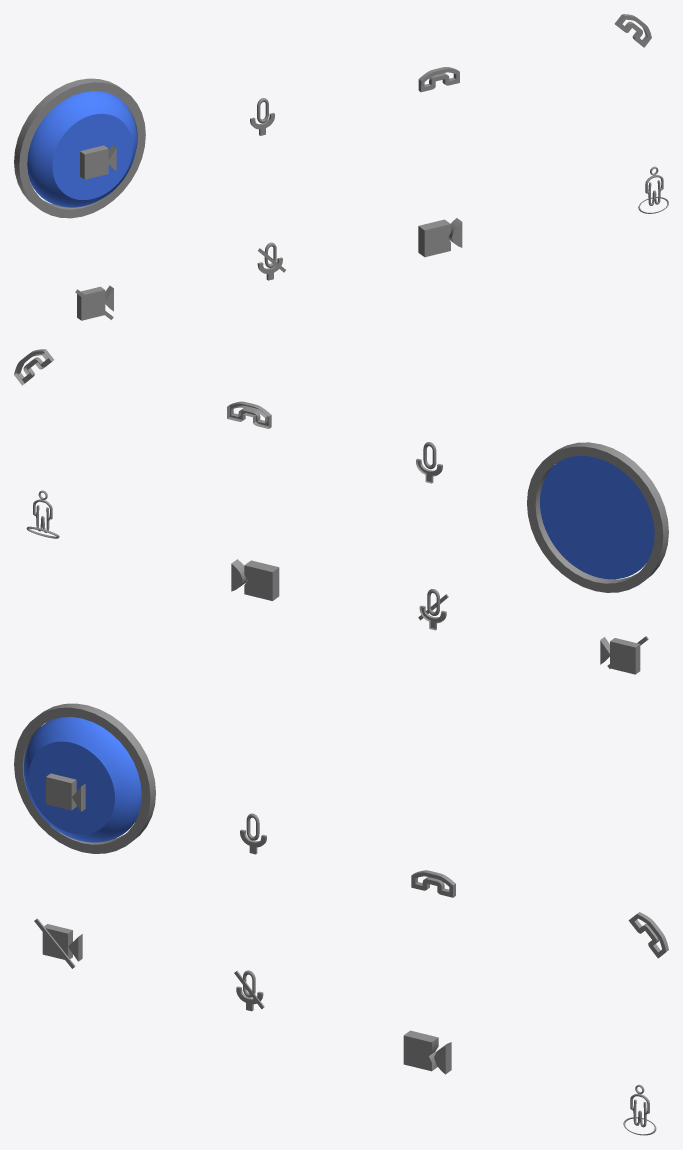
3 views of the same model, one above another, from view 1: azimuth 30°, elevation 25°; view 2: azimuth 150°, elevation 25°; view 3: azimuth 330°, elevation 25° (orthographic). The views are drawn at different scales.
Parts seen in each view (by area): view 1: Cylinder091, Cylinder087, Box051, Box053, Box052, Plane050, Plane048, Plane049, Plane047; view 2: Cylinder091, Cylinder087, Box051, Box053, Plane050, Plane048, Plane049, Plane047, Plane051; view 3: Cylinder091, Cylinder087, Box051, Box053, Box052, Plane048, Plane050, Plane049.
Boxes of the visible parts, left/top/right/bottom form: Cylinder091: left=27, top=91, right=137, bottom=207; Cylinder087: left=14, top=78, right=145, bottom=218; Box051: left=418, top=218, right=462, bottom=257; Box053: left=75, top=285, right=113, bottom=320; Box052: left=80, top=145, right=116, bottom=179; Plane050: left=418, top=67, right=459, bottom=92; Plane048: left=614, top=14, right=651, bottom=47; Plane049: left=257, top=242, right=285, bottom=280; Plane047: left=638, top=166, right=668, bottom=213; Cylinder091: left=540, top=456, right=654, bottom=579; Cylinder087: left=527, top=442, right=668, bottom=592; Box051: left=231, top=559, right=279, bottom=600; Box053: left=600, top=636, right=648, bottom=674; Plane050: left=227, top=401, right=271, bottom=428; Plane048: left=14, top=349, right=53, bottom=385; Plane049: left=418, top=589, right=448, bottom=630; Plane047: left=26, top=490, right=59, bottom=538; Plane051: left=416, top=442, right=442, bottom=483; Cylinder091: left=23, top=717, right=141, bottom=842; Cylinder087: left=14, top=703, right=155, bottom=853; Box051: left=403, top=1030, right=451, bottom=1074; Box053: left=34, top=918, right=82, bottom=968; Box052: left=46, top=773, right=85, bottom=811; Plane048: left=628, top=912, right=668, bottom=958; Plane050: left=411, top=870, right=455, bottom=897; Plane049: left=234, top=970, right=264, bottom=1011.
Bounding box in the file's own units: 9.23 × 3.4 × 0.9033.
